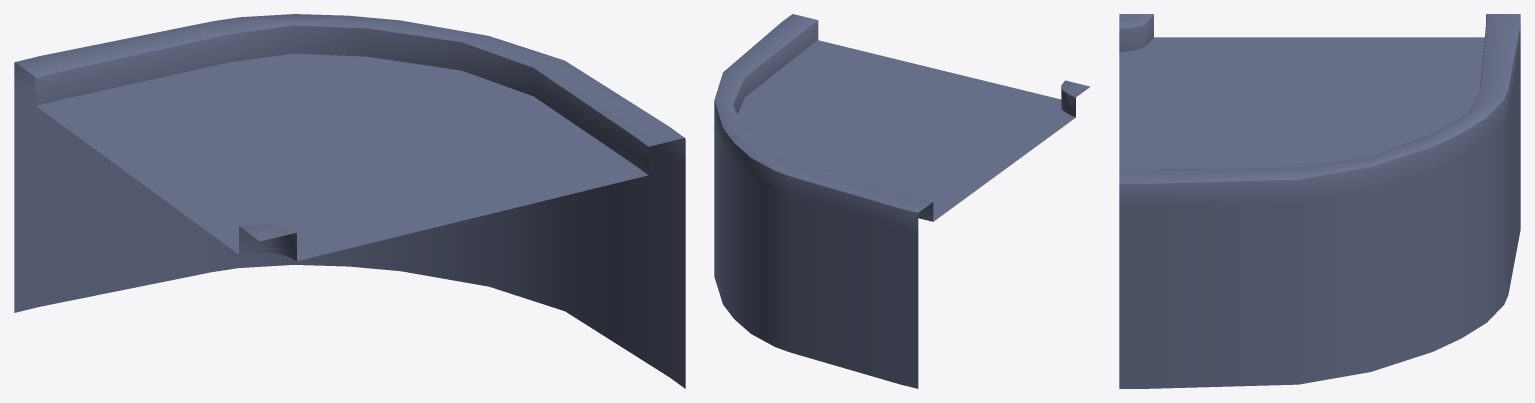
The model's file is conveyor_corner.fbx.
The picture shows the model from 3 angles, left to right: view 1: azimuth 30°, elevation 25°; view 2: azimuth 150°, elevation 25°; view 3: azimuth 270°, elevation 25°; orthographic projection. The views are drawn at different scales.
Parts seen in each view (by area): view 1: CORNER; view 2: CORNER; view 3: CORNER.
Part boxes in pixels (x1,y1,x2,y2): CORNER: (14,14,685,388); CORNER: (714,14,1090,388); CORNER: (1119,14,1520,388).
Size of the model in its own units: 100 by 56.43 by 100.
